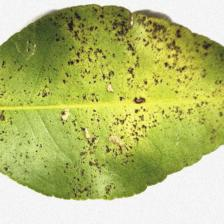canker: (56, 12, 196, 134)
